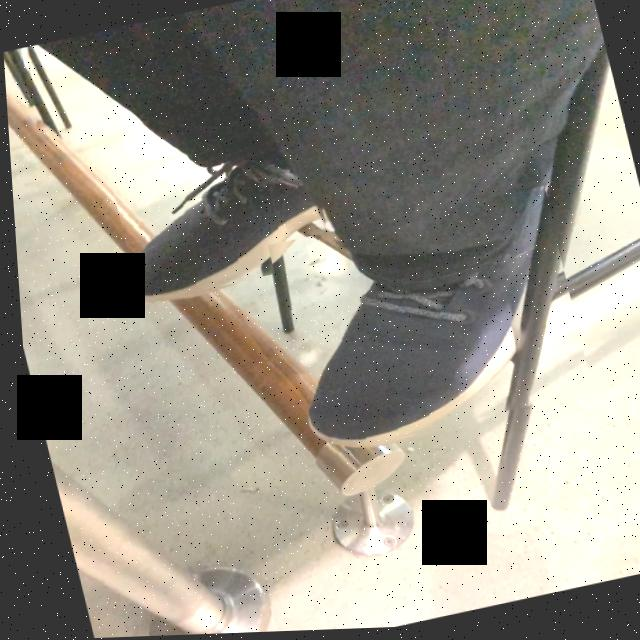shoe: (302, 189, 544, 448), (128, 149, 320, 300)
